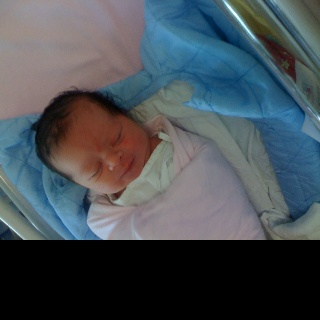without_mask: (50, 104, 149, 192)
